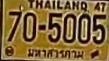0: (22, 11, 36, 41), (62, 13, 76, 42), (78, 13, 90, 43)
5: (48, 12, 62, 42), (92, 14, 106, 43)
7: (8, 11, 22, 40)
MKM: (25, 47, 86, 60)
